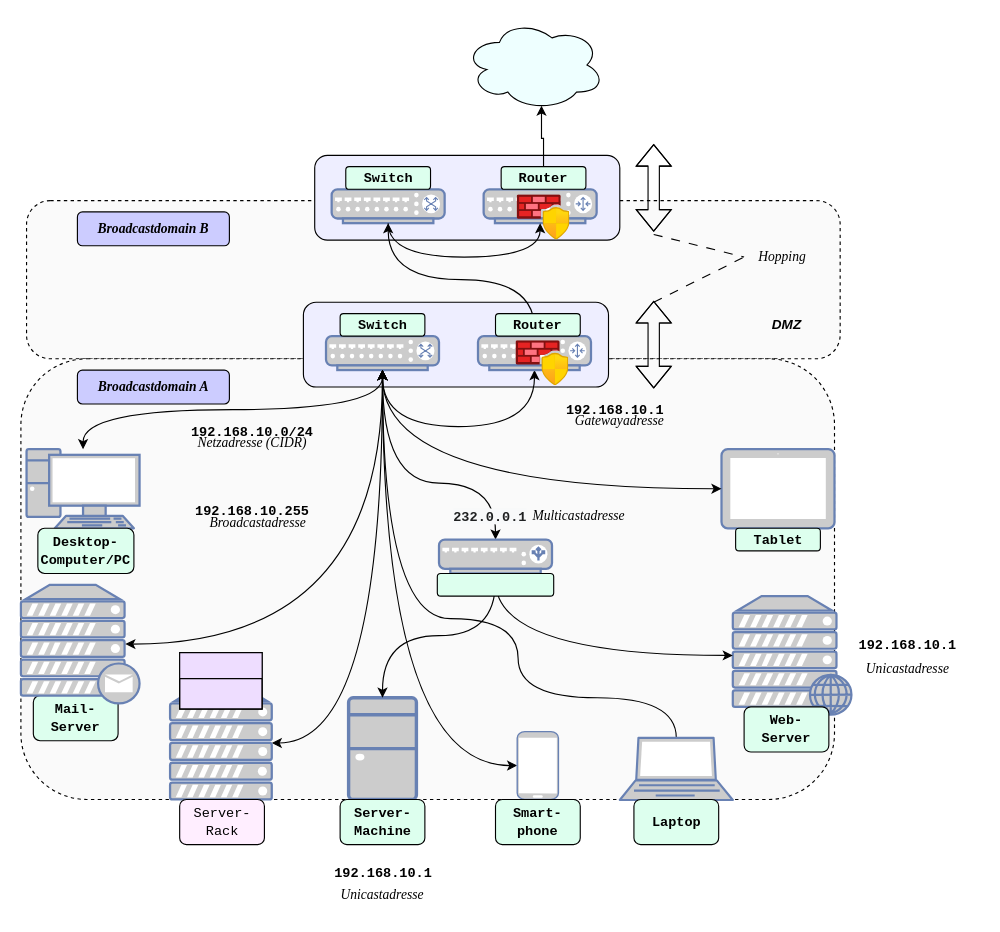
Some shapes in this 1000 by 932 pixel diagram are drawn without their labels. Each missing label, with the centre of its shape:
"Internet" goes at point 534,64.
"Loadbalancer" goes at point 495,584.
"Server-App" goes at point 220,680.
